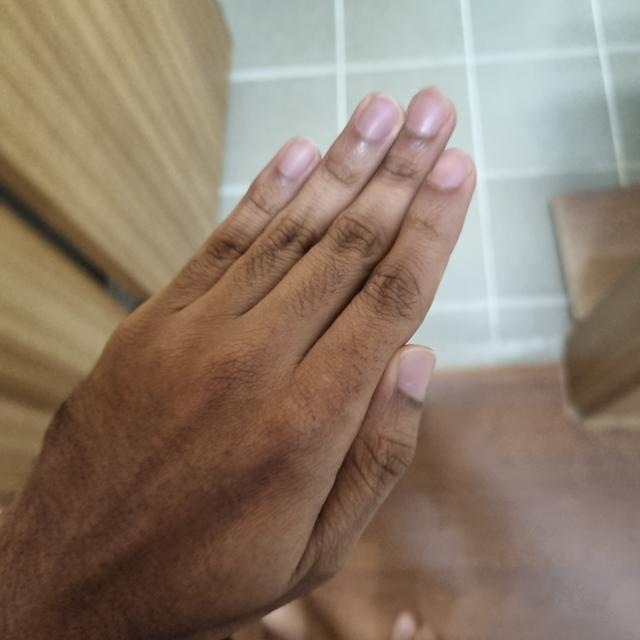Paper: (0, 97, 474, 638)
